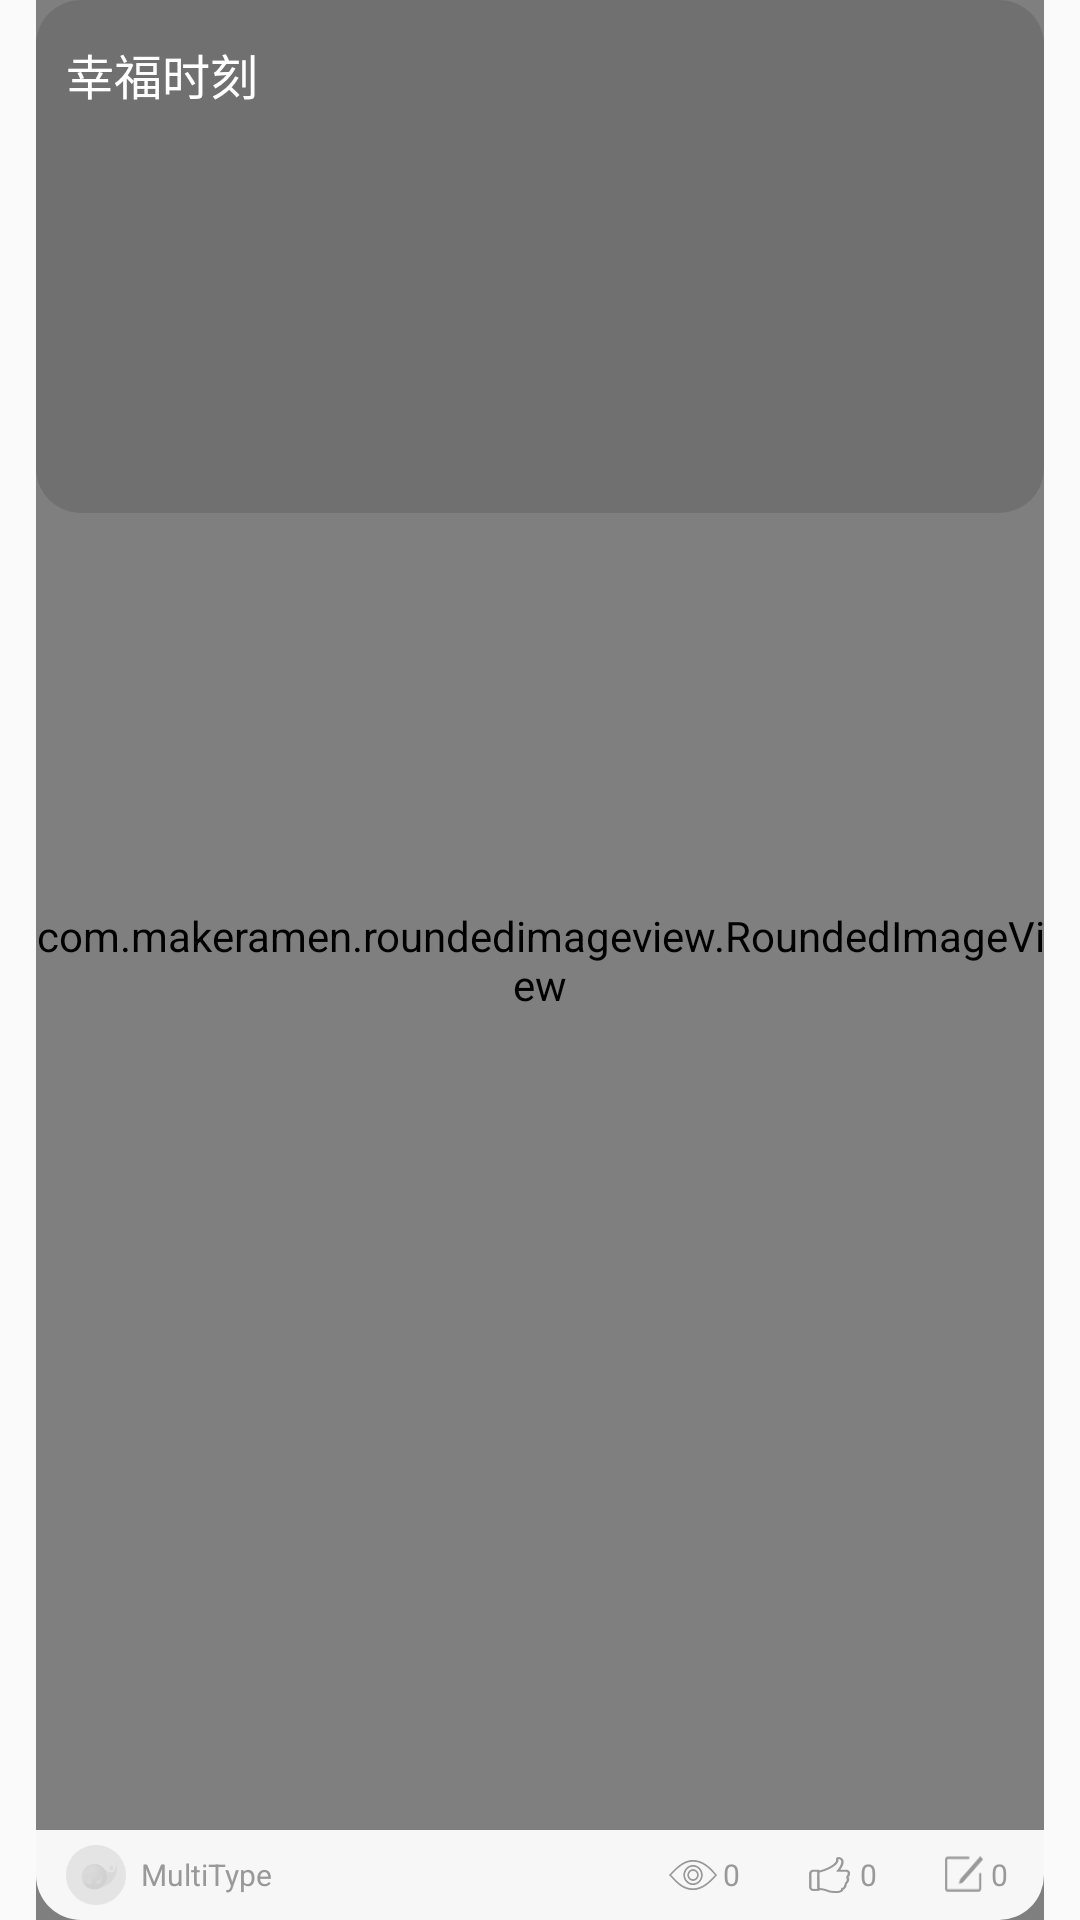

Named icons in this screenshot (1080x1920) and their centers, (x,y):
note comment: (964,1874)
note eye: (693,1875)
note praise: (829,1875)
